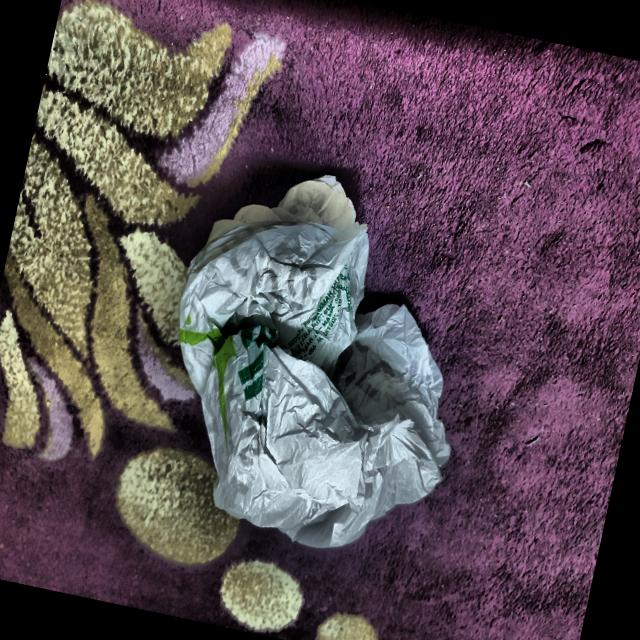plastic bag: (134, 130, 514, 580)
